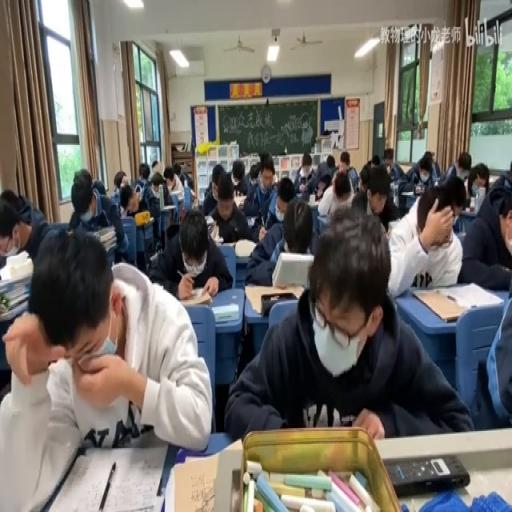calculator: (169, 453, 221, 512), (243, 281, 301, 313), (444, 282, 502, 308), (0, 294, 29, 322), (0, 268, 30, 292), (177, 286, 212, 306), (94, 224, 117, 248), (212, 302, 238, 322), (234, 236, 256, 258), (134, 212, 154, 227), (213, 238, 235, 248), (206, 216, 216, 236), (232, 194, 246, 208), (390, 182, 398, 206), (387, 219, 400, 233), (458, 206, 476, 215), (456, 219, 466, 235), (307, 196, 320, 208), (402, 189, 415, 196), (246, 215, 254, 226), (162, 204, 176, 210), (188, 188, 195, 199), (434, 178, 440, 186)
paper: (3, 230, 207, 508), (226, 209, 469, 442), (148, 204, 230, 298), (458, 161, 512, 290), (244, 192, 318, 286), (68, 168, 126, 266), (1, 188, 61, 266), (362, 162, 400, 231), (398, 151, 440, 209), (145, 168, 176, 229), (298, 152, 335, 198), (202, 161, 230, 216), (331, 151, 360, 193), (444, 150, 472, 186), (228, 158, 249, 202), (256, 154, 275, 196), (117, 182, 139, 218), (96, 190, 114, 222), (174, 161, 192, 189), (72, 166, 92, 186), (350, 189, 366, 213), (0, 189, 19, 206), (247, 164, 259, 188), (92, 179, 106, 196), (476, 172, 488, 191), (114, 171, 126, 189), (422, 149, 434, 165), (138, 164, 150, 179), (134, 178, 146, 193), (325, 154, 334, 170), (382, 148, 392, 162), (112, 185, 119, 205), (288, 168, 298, 182), (164, 175, 173, 188), (370, 154, 380, 165), (150, 158, 158, 169)
person: (385, 452, 470, 496), (230, 468, 242, 510), (414, 182, 424, 193)
